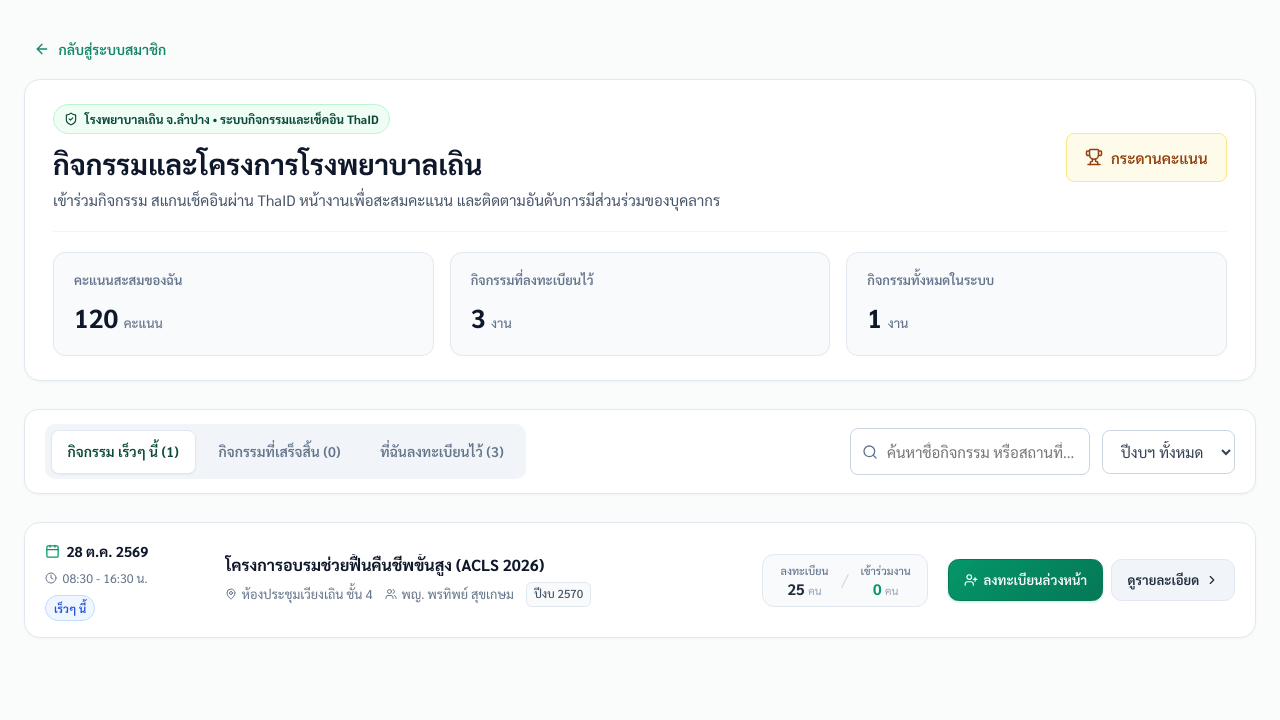
EventsClient Component › filters events when searching query
The width and height of the screenshot is (1280, 720).
Step 1. Type "ห้องประชุมเวียงเถิน" into the field with placeholder "ค้นหาชื่อกิจกรรม หรือสถานที่..." → [970, 452], box [850,428,1090,475]
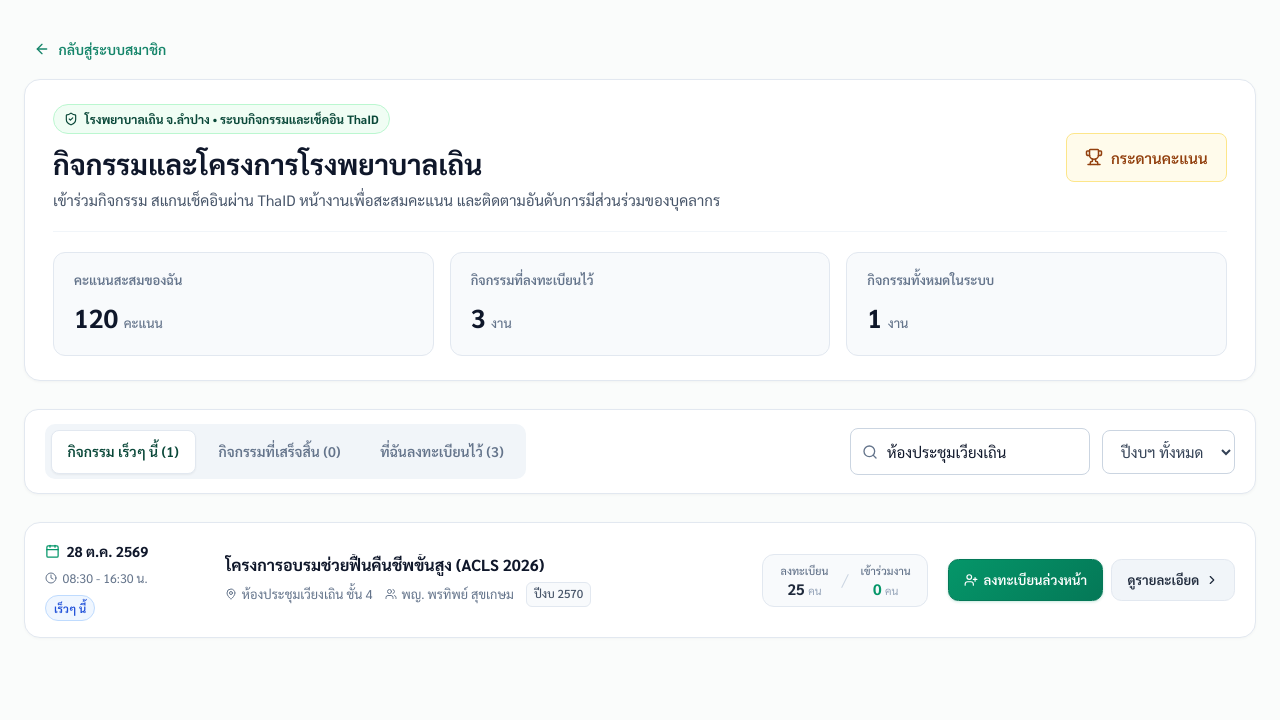
Expected: the link "โครงการอบรมช่วยฟื้นคืนชีพขั้นสูง (ACLS 2026)" is shown, [225,554,544,575]
Step 2. Replace the text in the field with placeholder "ค้นหาชื่อกิจกรรม หรือสถานที่..." with "ไม่พบกิจกรรมใดๆ" → [970, 452], box [850,428,1090,475]
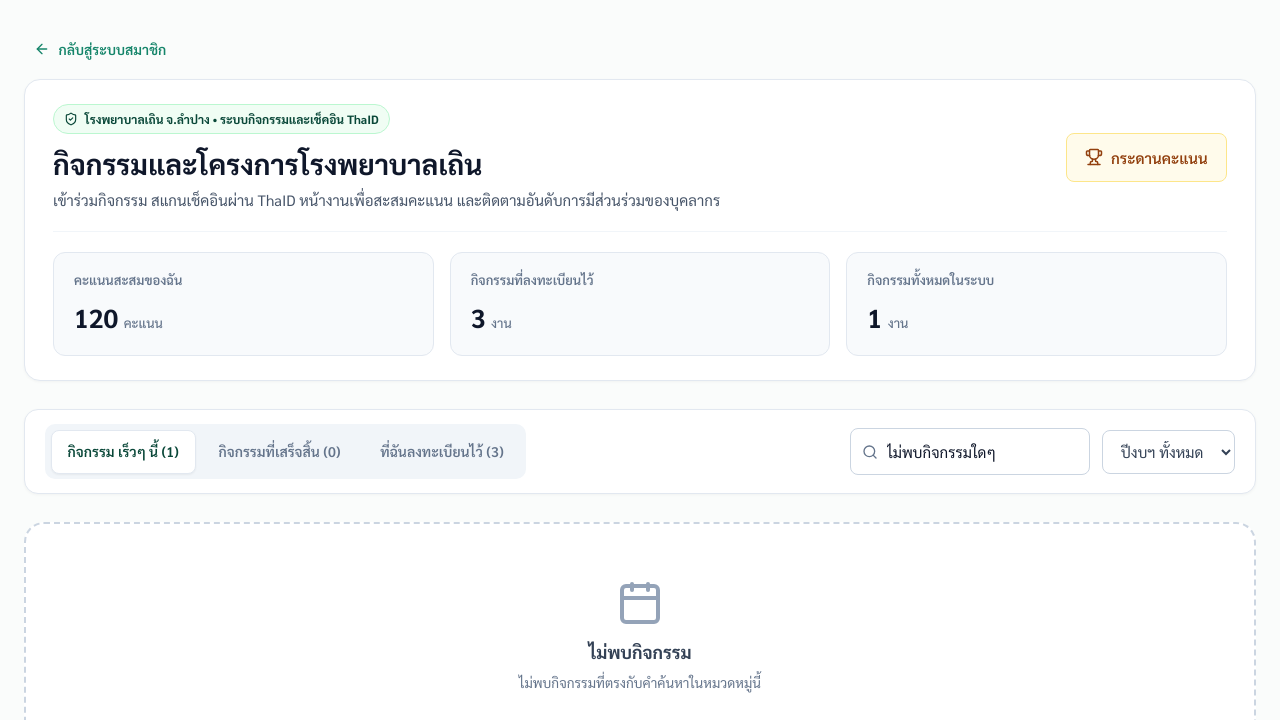
Expected: the heading "ไม่พบกิจกรรม" is shown, [588,640,692,663]
Expected: the text "ไม่พบกิจกรรมที่ตรงกับคำค้นหาในหมวดหมู่นี้" is shown, [519,673,761,691]
